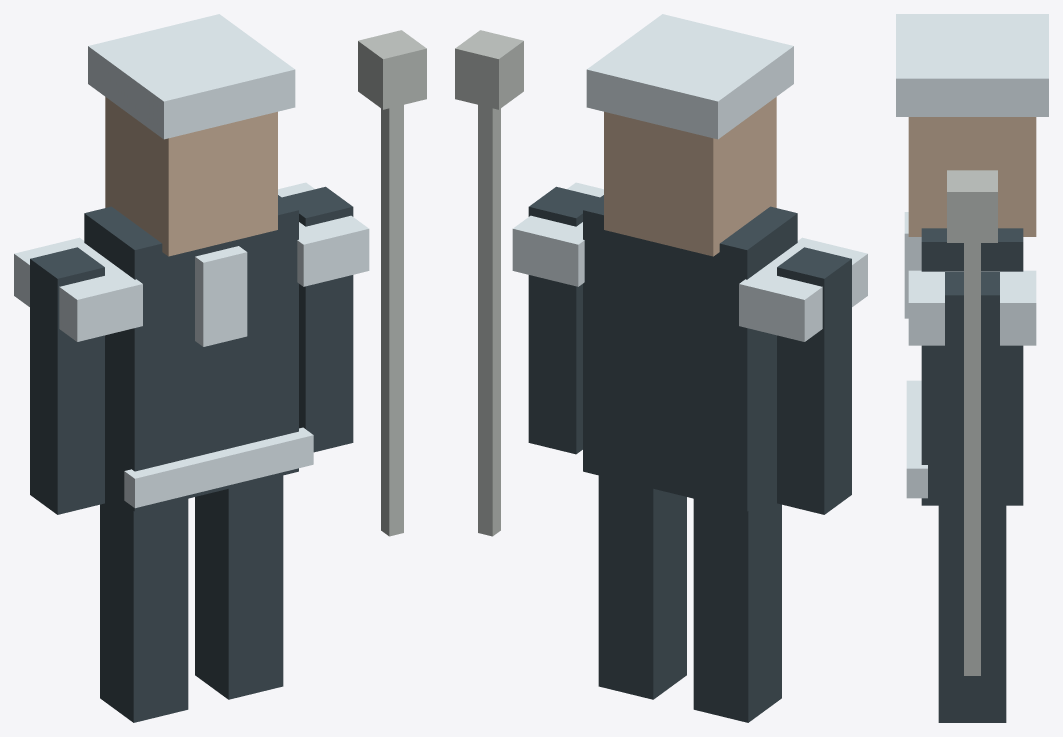
The model's file is 20_makoa_cinderholt_herald_under_platform.glb.
3 renders of one model, left to right at view 1: azimuth 30°, elevation 25°; view 2: azimuth 150°, elevation 25°; view 3: azimuth 270°, elevation 25°, orthographic.
Visible parts, largest first — view 1: Makoa Cinderholt, Herald under Platform; view 2: Makoa Cinderholt, Herald under Platform; view 3: Makoa Cinderholt, Herald under Platform.
Part boxes in pixels (x1,y1,x2,y2): Makoa Cinderholt, Herald under Platform: (14,14,426,722); Makoa Cinderholt, Herald under Platform: (455,14,867,722); Makoa Cinderholt, Herald under Platform: (896,14,1048,722).
Size of the model in its own units: 1 by 1.64 by 0.3553.
